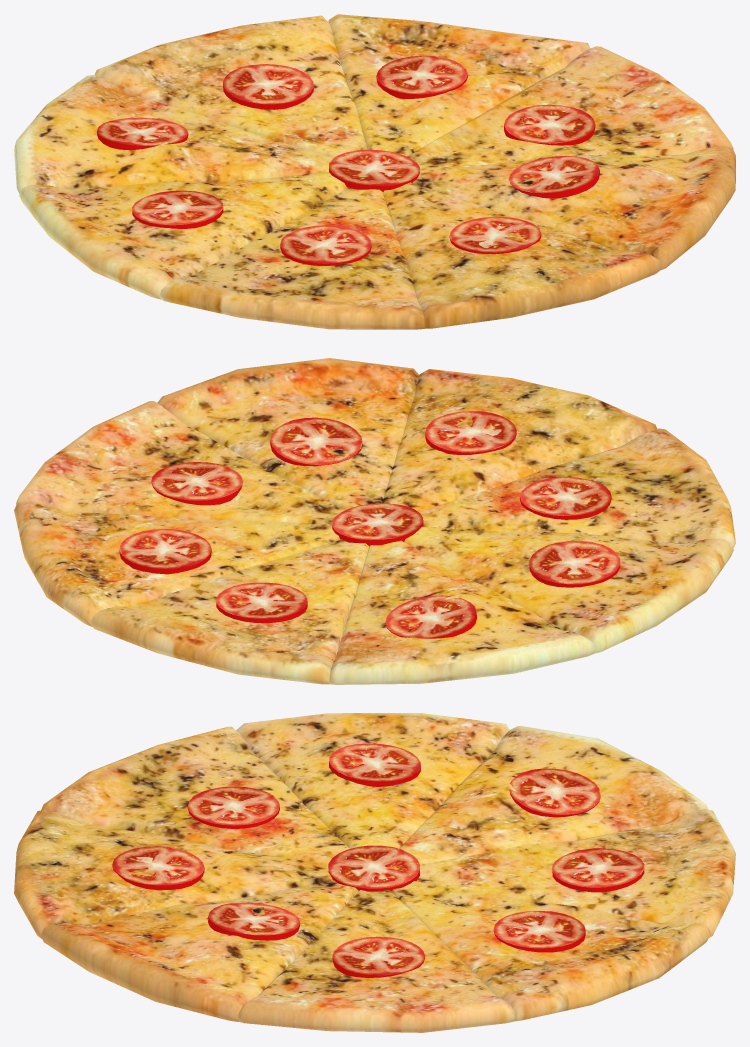
Rendered from veggies_4.glb.
3 renders of one model, top to bottom at view 1: azimuth 30°, elevation 25°; view 2: azimuth 150°, elevation 25°; view 3: azimuth 270°, elevation 25°, orthographic.
Parts seen in each view (by area): view 1: Material2.016; view 2: Material2.016; view 3: Material2.016.
Part boxes in pixels (left/top/right/bottom): Material2.016: left=14, top=14, right=735, bottom=329; Material2.016: left=14, top=358, right=735, bottom=684; Material2.016: left=14, top=713, right=735, bottom=1032.
Size of the model in its own units: 1.21 by 0.064 by 1.21.
3 materials, 2 textured.
